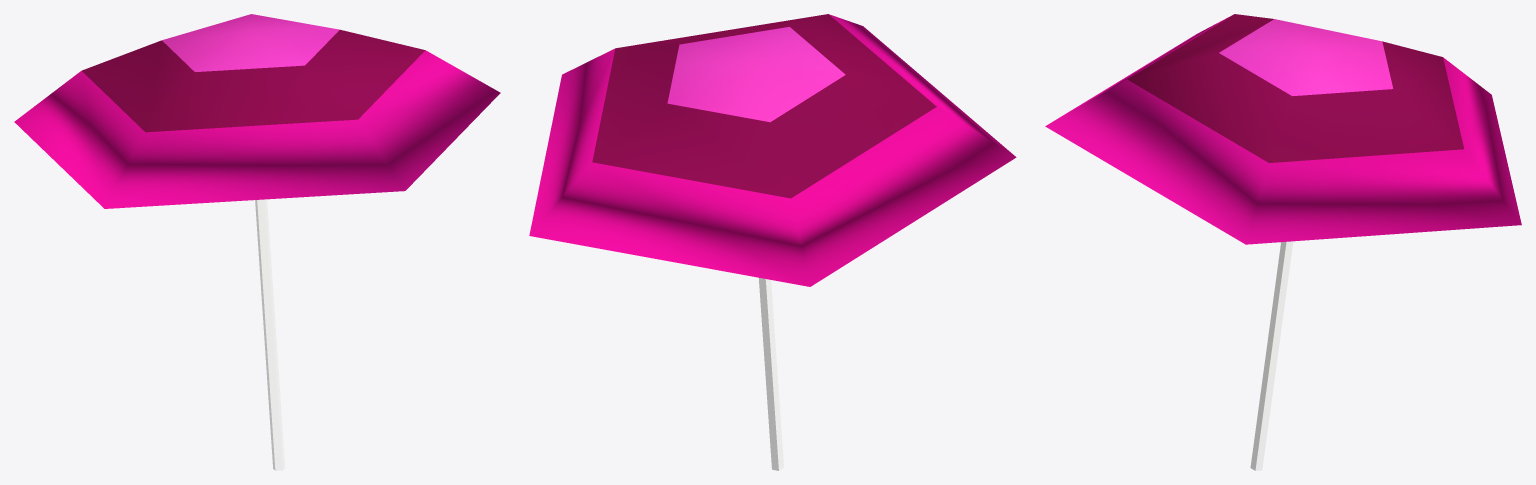
File: BeachUmbrellaPink.glb
3 renders of one model, left to right at view 1: azimuth 30°, elevation 25°; view 2: azimuth 150°, elevation 25°; view 3: azimuth 270°, elevation 25°, orthographic. The views are drawn at different scales.
Visible parts, largest first — view 1: BeachUmbrellaPink; view 2: BeachUmbrellaPink; view 3: BeachUmbrellaPink.
Boxes of the visible parts, x1,y1,x2,y2 form: BeachUmbrellaPink: (14,14,500,470); BeachUmbrellaPink: (529,14,1016,470); BeachUmbrellaPink: (1045,14,1521,470).
Size of the model in its own units: 2.41 by 2.28 by 2.35.
Materials: 1 (1 with a texture image).
